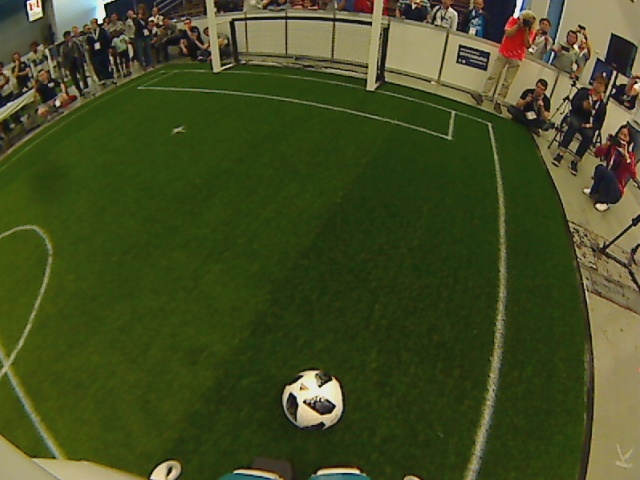ball: (281, 368, 346, 431)
goalpost: (357, 73, 382, 103), (205, 57, 227, 85)
